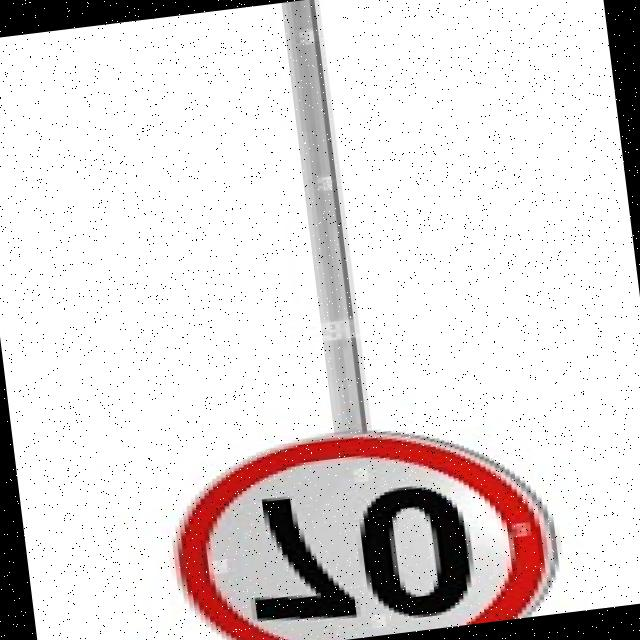speed_limit_70: (119, 403, 611, 640)
